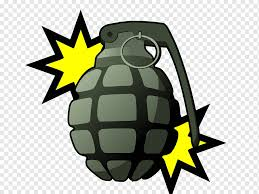e1: (69, 21, 200, 182)
